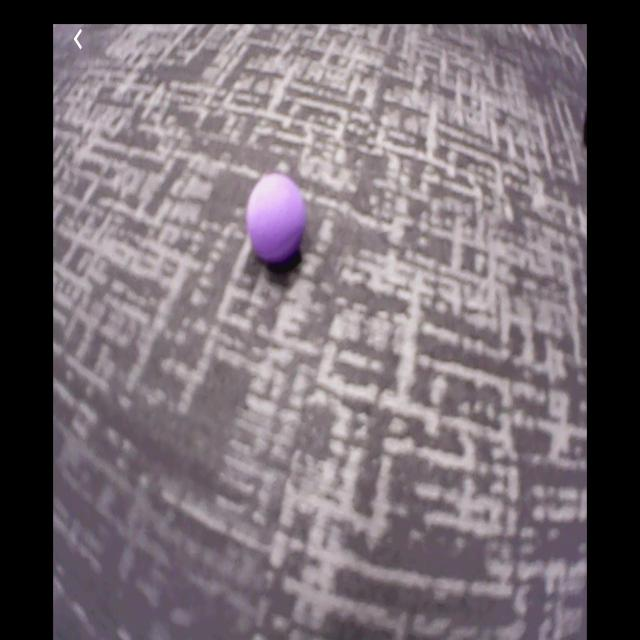ball: (247, 172, 307, 267)
